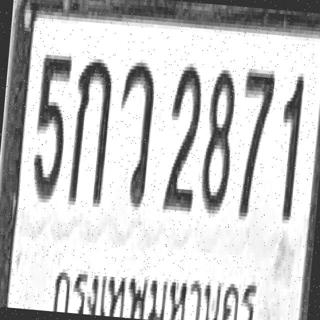A01: (68, 54, 113, 204)
A37: (112, 58, 156, 207)
N01: (274, 72, 304, 220)
N02: (163, 60, 204, 210)
N05: (30, 50, 72, 200)
N07: (233, 65, 276, 218)
N08: (199, 65, 238, 211)
